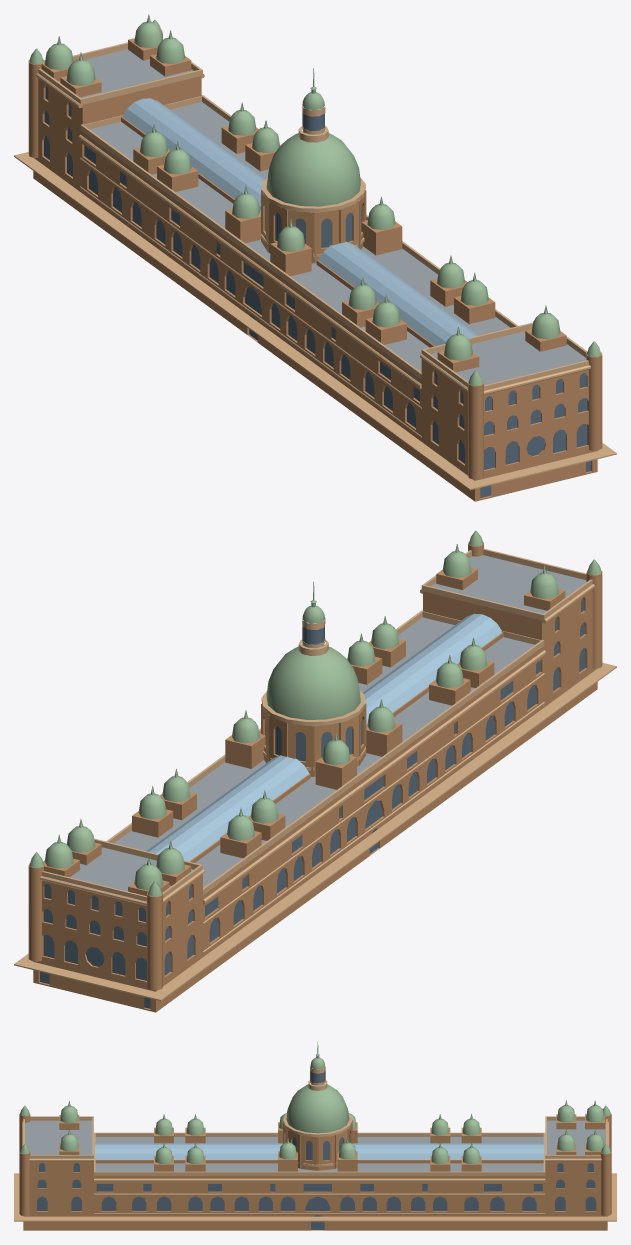
The model's file is sydney-queen-victoria-building.glb.
The picture shows the model from 3 angles, top to bottom: view 1: azimuth 30°, elevation 25°; view 2: azimuth 150°, elevation 25°; view 3: azimuth 270°, elevation 25°; orthographic projection. The views are drawn at different scales.
Visible parts, largest first — view 1: Queen Victoria Building; view 2: Queen Victoria Building; view 3: Queen Victoria Building.
Boxes of the visible parts, left/top/right/bottom form: Queen Victoria Building: left=14, top=14, right=616, bottom=501; Queen Victoria Building: left=14, top=530, right=616, bottom=1012; Queen Victoria Building: left=14, top=1042, right=616, bottom=1230.
Bounding box in the file's own units: 35.8 × 59.5 × 192.
